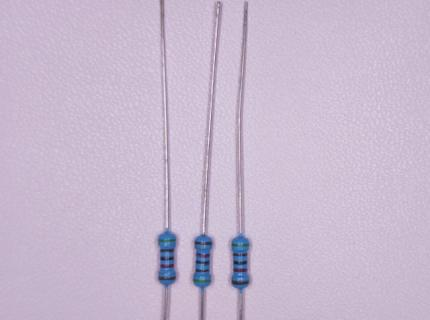Black band: (160, 256, 174, 260), (196, 260, 210, 264), (234, 260, 247, 264)
Brown band: (194, 240, 212, 246), (158, 276, 176, 281), (231, 280, 249, 285), (196, 268, 210, 272), (233, 253, 247, 257), (160, 249, 174, 252)
Green band: (193, 278, 211, 283), (158, 238, 176, 243), (231, 243, 249, 247)
Red band: (234, 268, 248, 272), (196, 253, 210, 257), (160, 264, 174, 268)
